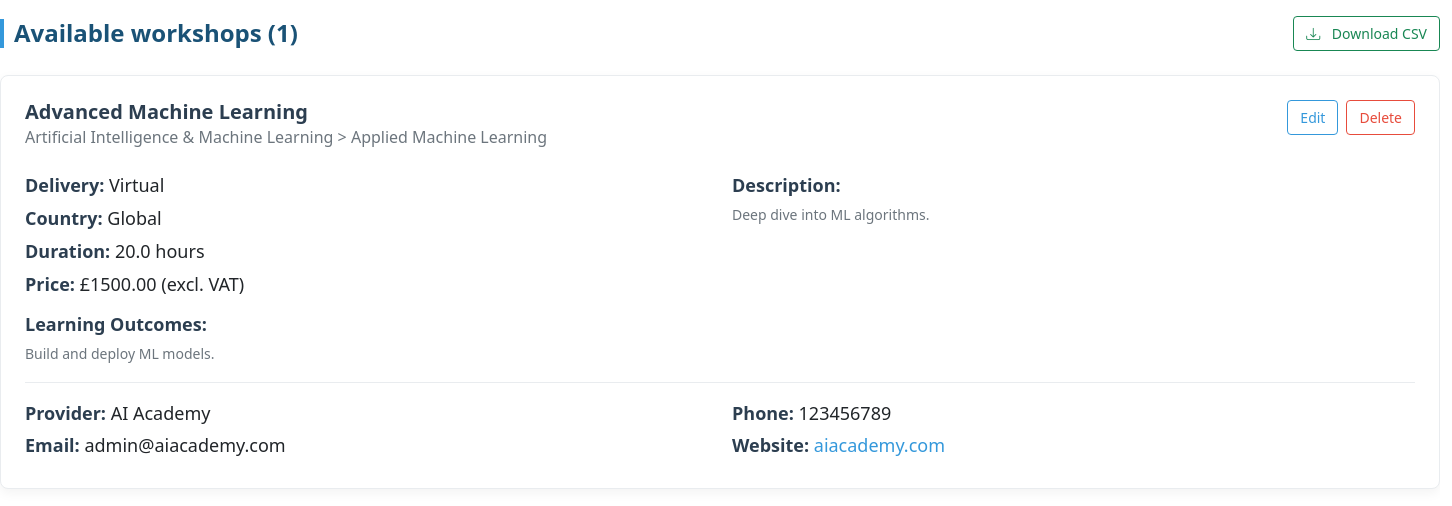
CoursesAdmin Component › shows delete confirmation on first delete click
expect the heading "Available workshops (1)" is shown: met, box x1=0 y1=19 x2=298 y2=48
Click the button "Delete" at {"x": 1381, "y": 118}, box x1=1346 y1=100 x2=1415 y2=135
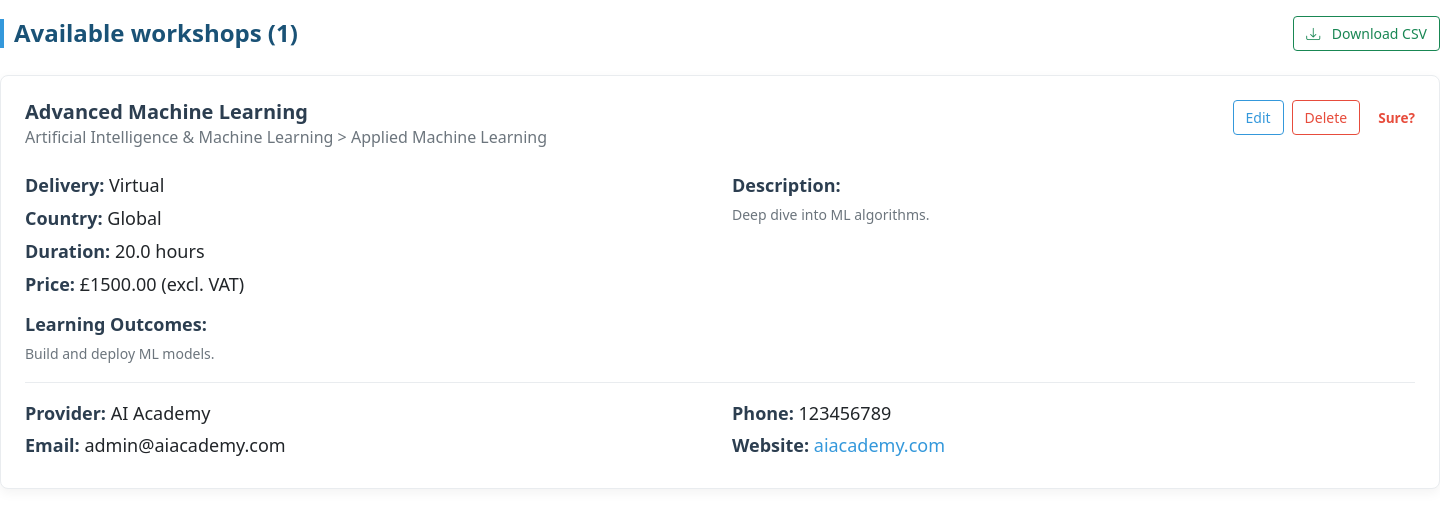
expect the text "Sure?" is shown: met, box x1=1378 y1=107 x2=1415 y2=128
